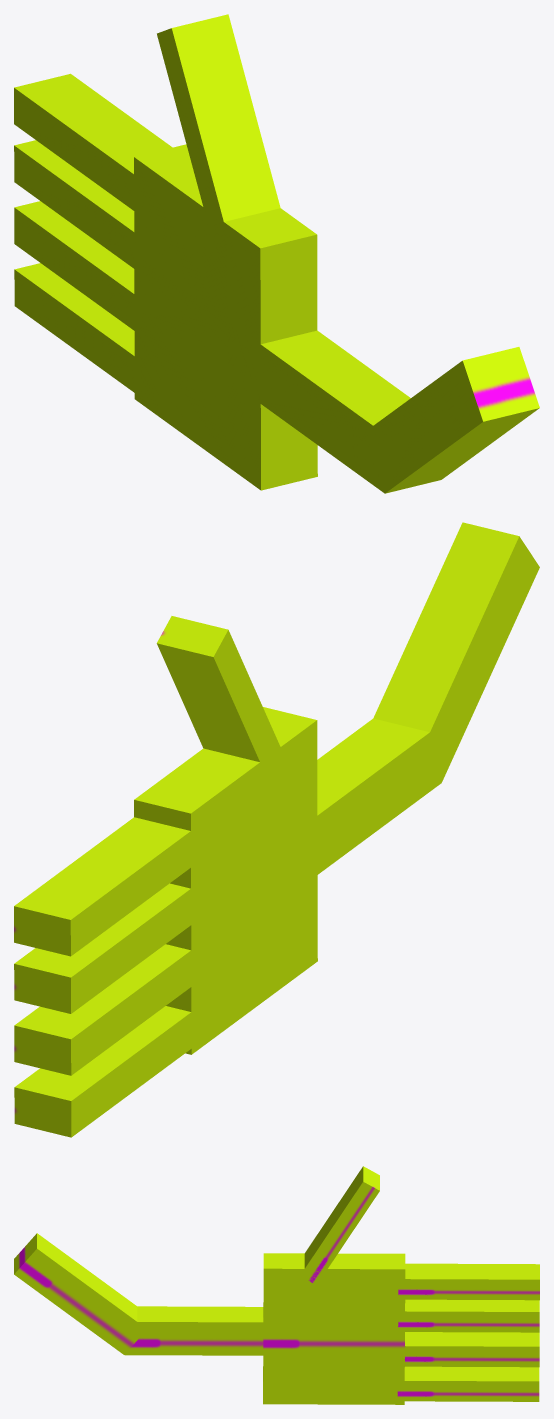
The model's file is arm.dae.
3 renders of one model, top to bottom at view 1: azimuth 30°, elevation 25°; view 2: azimuth 150°, elevation 25°; view 3: azimuth 270°, elevation 25°, orthographic. The views are drawn at different scales.
Parts seen in each view (by area): view 1: hand, thumb, upper_arm, lower_arm, index_finger, pinky_finger, ring_finger, middle_finger; view 2: hand, upper_arm, index_finger, lower_arm, thumb, ring_finger, pinky_finger, middle_finger; view 3: hand, lower_arm, upper_arm, index_finger, pinky_finger, ring_finger, middle_finger, thumb.
Part boxes in pixels (x1,y1,x2,y2): hand: (134,144,317,490); thumb: (157,14,280,243); upper_arm: (365,347,539,493); lower_arm: (260,330,436,493); index_finger: (14,73,172,214); pinky_finger: (14,263,140,397); ring_finger: (14,201,140,334); middle_finger: (14,140,140,272); hand: (134,707,317,1054); upper_arm: (373,522,539,782); index_finger: (14,817,197,956); lower_arm: (315,718,441,876); thumb: (156,616,284,783); ring_finger: (14,944,197,1075); pinky_finger: (14,1006,197,1137); middle_finger: (14,883,197,1013); hand: (263,1253,405,1404); lower_arm: (124,1306,263,1355); upper_arm: (14,1233,141,1354); index_finger: (398,1263,539,1300); pinky_finger: (397,1366,539,1401); ring_finger: (401,1332,539,1367); middle_finger: (398,1299,539,1332); thumb: (301,1166,379,1285).
Bounding box in the file's own units: 0.3029 × 4.33 × 2.03.
1 material, 1 textured.
